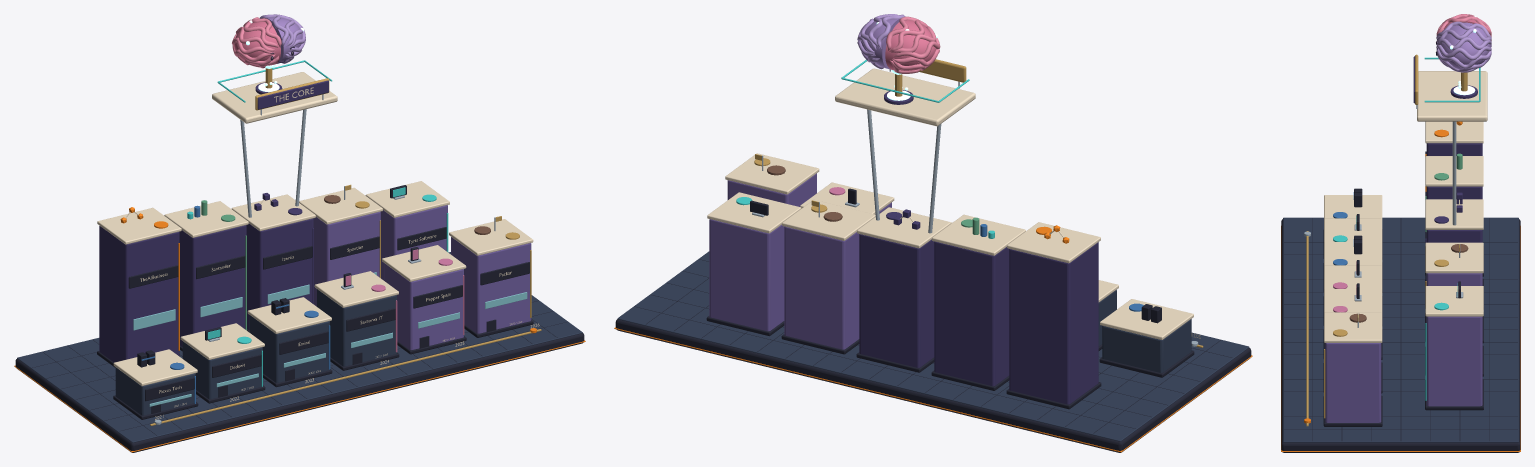
The model's file is career.glb.
3 renders of one model, left to right at view 1: azimuth 30°, elevation 25°; view 2: azimuth 150°, elevation 25°; view 3: azimuth 270°, elevation 25°, orthographic. The views are drawn at different scales.
Parts seen in each view (by area): view 1: Batch_KROQUETITA__Ciudad_completa_CITY / slate, Batch_Career_Stage_11_TheAIBusiness_CITY / purple, Batch_KROQUETITA__Ciudad_completa_CITY / charcoal, Batch_Career_Stage_10_Santander_CITY / purple, Batch_Career_Stage_09_Izertis_CITY / purple, Batch_Career_Stage_06_Packar_CITY / lavender, Batch_Career_Stage_05_Pepper_Spain_CITY / lavender, Batch_Career_Stage_08_Sportian_CITY / lavender, Batch_Career_Stage_04_Sectorea_IT_CITY / slate, Batch_Career_Stage_03_Emiral_CITY / slate, Batch_Rig_Core_CITY / cream, Batch_Career_Stage_07_Tyris_Software_CITY / lavender (+31 smaller); view 2: Batch_KROQUETITA__Ciudad_completa_CITY / slate, Batch_Career_Stage_11_TheAIBusiness_CITY / purple, Batch_Career_Stage_10_Santander_CITY / purple, Batch_Career_Stage_09_Izertis_CITY / purple, Batch_KROQUETITA__Ciudad_completa_CITY / charcoal, Batch_Career_Stage_08_Sportian_CITY / lavender, Batch_Career_Stage_07_Tyris_Software_CITY / lavender, Batch_Rig_Core_CITY / cream, Batch_Career_Stage_01_Plexus_Tech_CITY / slate, Batch_Career_Stage_11_TheAIBusiness_CITY / cream, Batch_Career_Stage_06_Packar_CITY / cream, Batch_Career_Stage_08_Sportian_CITY / cream (+14 smaller); view 3: Batch_KROQUETITA__Ciudad_completa_CITY / slate, Batch_KROQUETITA__Ciudad_completa_CITY / charcoal, Batch_Career_Stage_07_Tyris_Software_CITY / lavender, Batch_Career_Stage_06_Packar_CITY / lavender, Batch_Rig_Core_CITY / cream, Batch_Career_Stage_07_Tyris_Software_CITY / cream, Batch_Career_Stage_08_Sportian_CITY / cream, Batch_Rig_Core_CITY / brain_lavender_fold, Batch_Career_Stage_06_Packar_CITY / cream, Batch_Career_Stage_09_Izertis_CITY / cream, Batch_Career_Stage_10_Santander_CITY / cream, Batch_Career_Stage_04_Sectorea_IT_CITY / cream (+21 smaller).
Boxes of the visible parts, x1,y1,x2,y2 form: Batch_KROQUETITA__Ciudad_completa_CITY / slate: (17,252,582,442); Batch_Career_Stage_11_TheAIBusiness_CITY / purple: (99,226,179,362); Batch_KROQUETITA__Ciudad_completa_CITY / charcoal: (15,300,584,452); Batch_Career_Stage_10_Santander_CITY / purple: (179,225,246,346); Batch_Career_Stage_09_Izertis_CITY / purple: (246,193,313,330); Batch_Career_Stage_06_Packar_CITY / lavender: (451,237,531,333); Batch_Career_Stage_05_Pepper_Spain_CITY / lavender: (384,263,463,349); Batch_Career_Stage_08_Sportian_CITY / lavender: (313,211,380,306); Batch_Career_Stage_04_Sectorea_IT_CITY / slate: (317,289,396,366); Batch_Career_Stage_03_Emiral_CITY / slate: (249,315,329,382); Batch_Rig_Core_CITY / cream: (212,52,337,123); Batch_Career_Stage_07_Tyris_Software_CITY / lavender: (381,205,447,280); Batch_KROQUETITA__Ciudad_completa_CITY / slate: (617,251,1249,441); Batch_Career_Stage_11_TheAIBusiness_CITY / purple: (1009,242,1098,404); Batch_Career_Stage_10_Santander_CITY / purple: (934,241,1009,386); Batch_Career_Stage_09_Izertis_CITY / purple: (859,209,934,367); Batch_KROQUETITA__Ciudad_completa_CITY / charcoal: (615,259,1251,452); Batch_Career_Stage_08_Sportian_CITY / lavender: (784,226,859,349); Batch_Career_Stage_07_Tyris_Software_CITY / lavender: (709,219,784,331); Batch_Rig_Core_CITY / cream: (835,68,975,126); Batch_Career_Stage_01_Plexus_Tech_CITY / slate: (1102,319,1191,372); Batch_Career_Stage_11_TheAIBusiness_CITY / cream: (1007,222,1100,263); Batch_Career_Stage_06_Packar_CITY / cream: (725,153,819,194); Batch_Career_Stage_08_Sportian_CITY / cream: (782,199,875,240); Batch_KROQUETITA__Ciudad_completa_CITY / slate: (1283,217,1518,442); Batch_KROQUETITA__Ciudad_completa_CITY / charcoal: (1281,218,1520,452); Batch_Career_Stage_07_Tyris_Software_CITY / lavender: (1426,316,1482,406); Batch_Career_Stage_06_Packar_CITY / lavender: (1325,343,1381,422); Batch_Rig_Core_CITY / cream: (1417,52,1487,121); Batch_Career_Stage_07_Tyris_Software_CITY / cream: (1425,286,1483,316); Batch_Career_Stage_08_Sportian_CITY / cream: (1425,242,1483,273); Batch_Rig_Core_CITY / brain_lavender_fold: (1436,21,1491,72); Batch_Career_Stage_06_Packar_CITY / cream: (1324,312,1382,342); Batch_Career_Stage_09_Izertis_CITY / cream: (1425,199,1483,229); Batch_Career_Stage_10_Santander_CITY / cream: (1425,156,1483,186); Batch_Career_Stage_04_Sectorea_IT_CITY / cream: (1324,265,1382,289).
Size of the model in its own units: 18.14 by 12.03 by 8.14.
